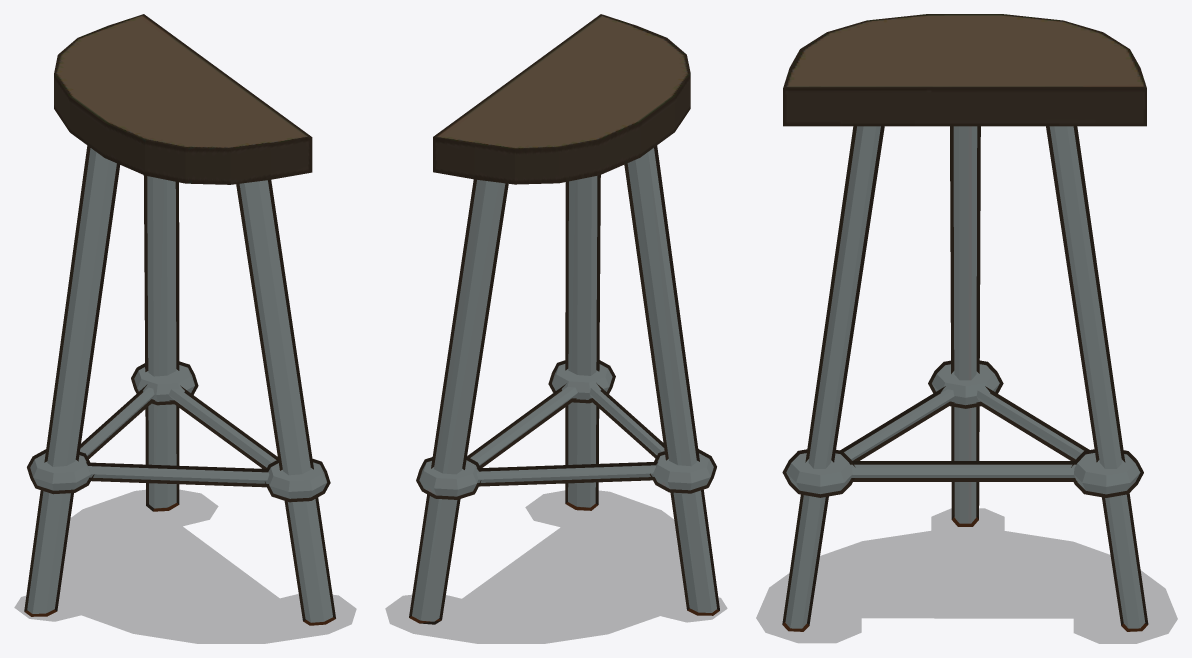
File: TreeFort_Chair.glb
3 renders of one model, left to right at view 1: azimuth 30°, elevation 25°; view 2: azimuth 150°, elevation 25°; view 3: azimuth 270°, elevation 25°, orthographic. The views are drawn at different scales.
Parts seen in each view (by area): view 1: TreeFort_Chair, Chair_Shadow; view 2: TreeFort_Chair, Chair_Shadow; view 3: TreeFort_Chair, Chair_Shadow.
Part boxes in pixels (left/top/right/bottom): TreeFort_Chair: left=24, top=14, right=335, bottom=625; Chair_Shadow: left=14, top=490, right=356, bottom=643; TreeFort_Chair: left=409, top=14, right=719, bottom=624; Chair_Shadow: left=385, top=490, right=726, bottom=643; TreeFort_Chair: left=782, top=14, right=1148, bottom=631; Chair_Shadow: left=756, top=508, right=1177, bottom=643.
Size of the model in its own units: 1.06 by 1.93 by 1.39.
Materials: 2 (2 with a texture image).
